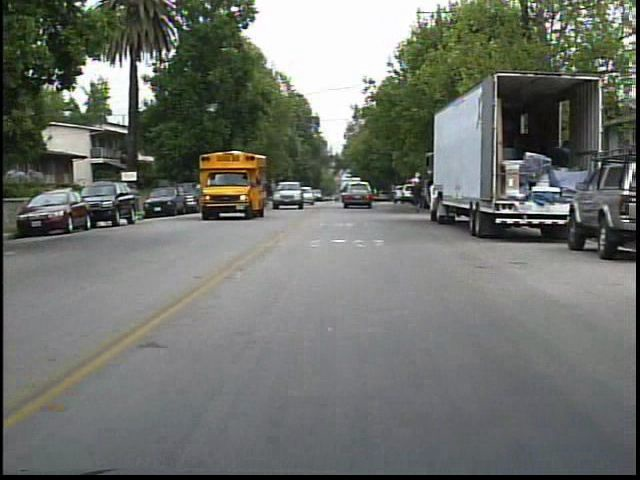person: (406, 174, 428, 220)
